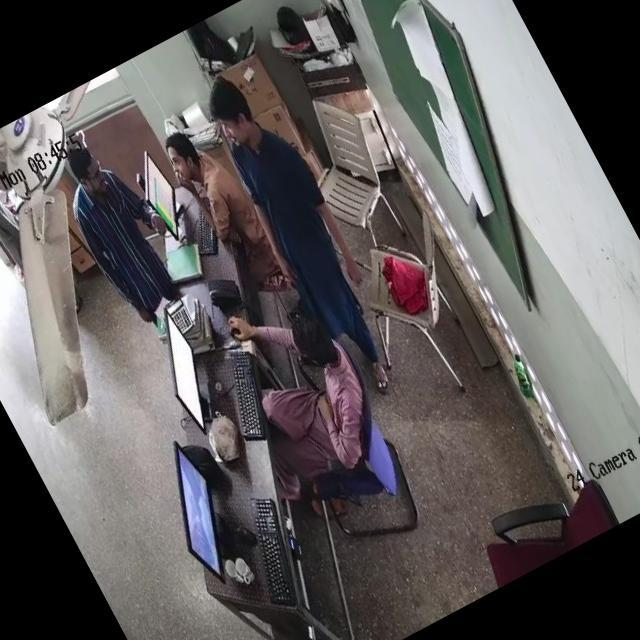person: (193, 66, 398, 399), (225, 302, 407, 520), (47, 134, 182, 316), (164, 117, 291, 290)
